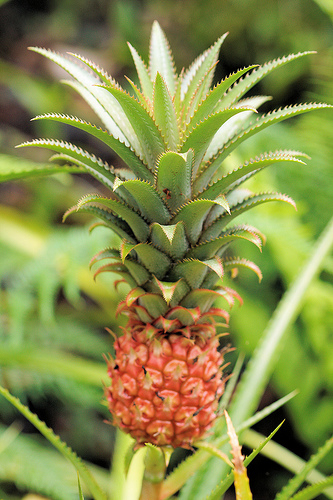pineapple: (13, 20, 329, 448)
